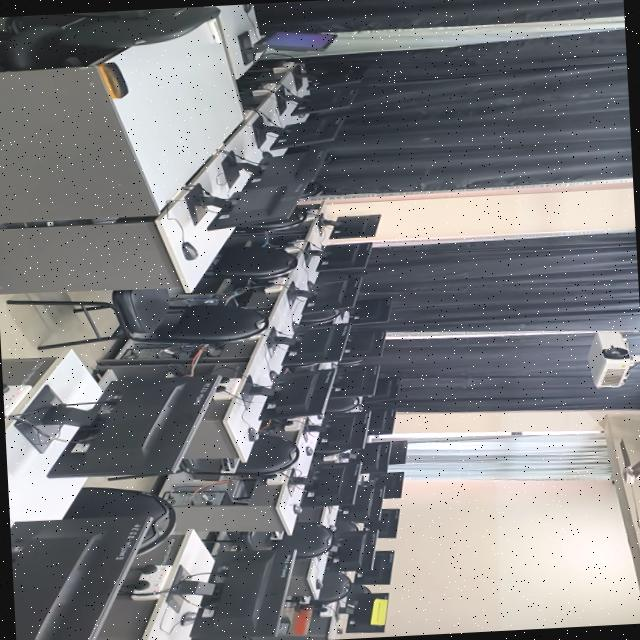Chair: (7, 288, 268, 349), (0, 6, 219, 70), (64, 487, 176, 554), (182, 434, 299, 480), (103, 18, 198, 53), (204, 245, 297, 278), (291, 570, 352, 609), (273, 522, 334, 558), (242, 208, 308, 231), (301, 310, 346, 324), (327, 396, 361, 412)
Monitor: (47, 375, 221, 477), (10, 514, 149, 640), (192, 548, 296, 640), (208, 180, 308, 229), (261, 369, 335, 419), (252, 115, 344, 150), (244, 149, 326, 188), (283, 322, 351, 366), (305, 410, 369, 455), (303, 461, 359, 506), (303, 276, 362, 315), (328, 531, 377, 571), (293, 88, 358, 114), (347, 592, 389, 632), (340, 329, 386, 365), (317, 242, 372, 271), (340, 485, 383, 522), (331, 364, 380, 396), (258, 31, 337, 50), (326, 213, 382, 238), (354, 550, 395, 584), (350, 296, 392, 325), (363, 376, 400, 403), (357, 442, 390, 472), (373, 440, 408, 464), (368, 407, 397, 435), (375, 471, 404, 498), (376, 508, 400, 537), (365, 520, 375, 529)
Mouse: (183, 241, 199, 259), (248, 427, 260, 441), (293, 503, 302, 513), (270, 370, 279, 380), (306, 445, 313, 455), (270, 369, 276, 374)
Projector: (588, 331, 637, 387)
